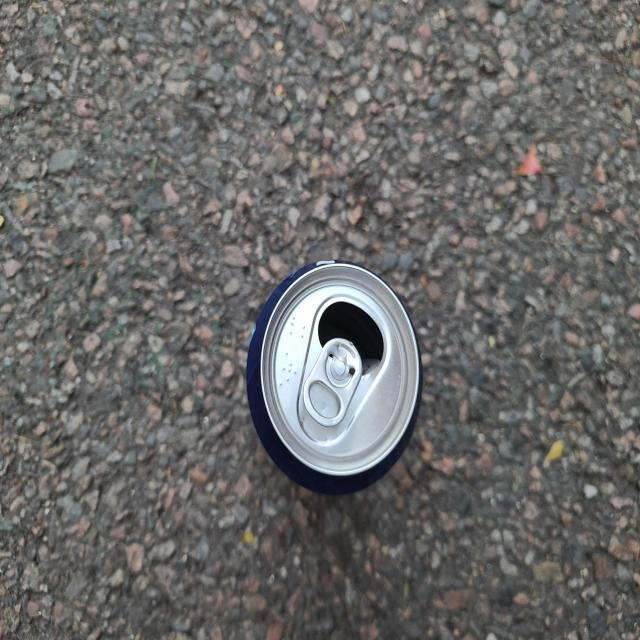can: (246, 260, 423, 494)
